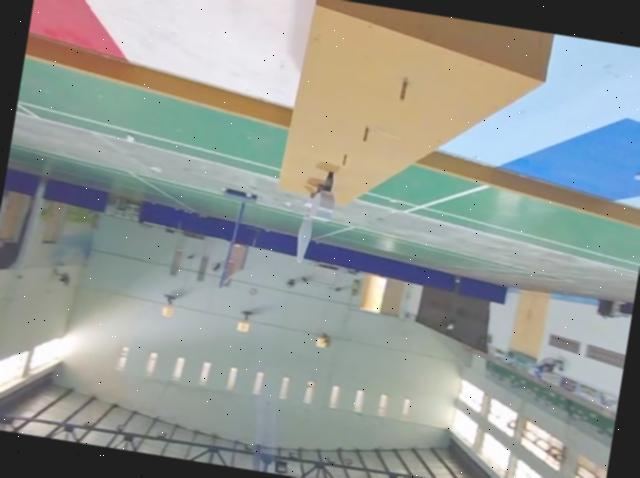Fist: (311, 170, 342, 223)
Sph: (290, 171, 332, 266)
